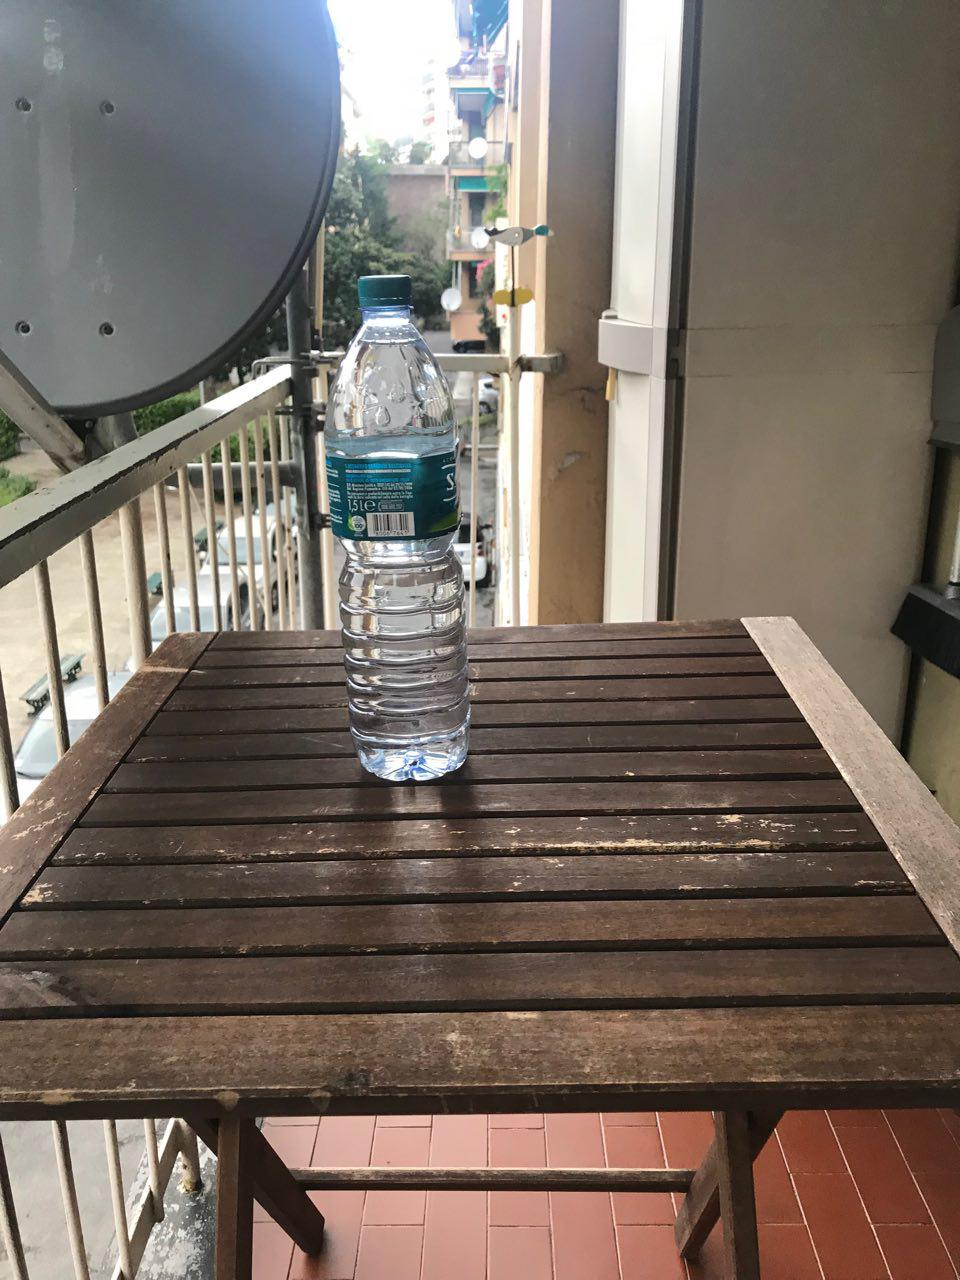san_bernardo: (323, 273, 471, 782)
